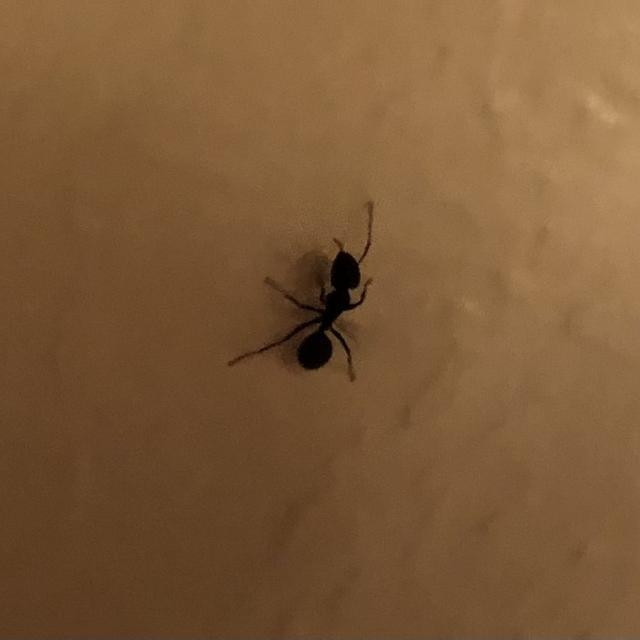Tapinoma: (257, 214, 393, 388)
